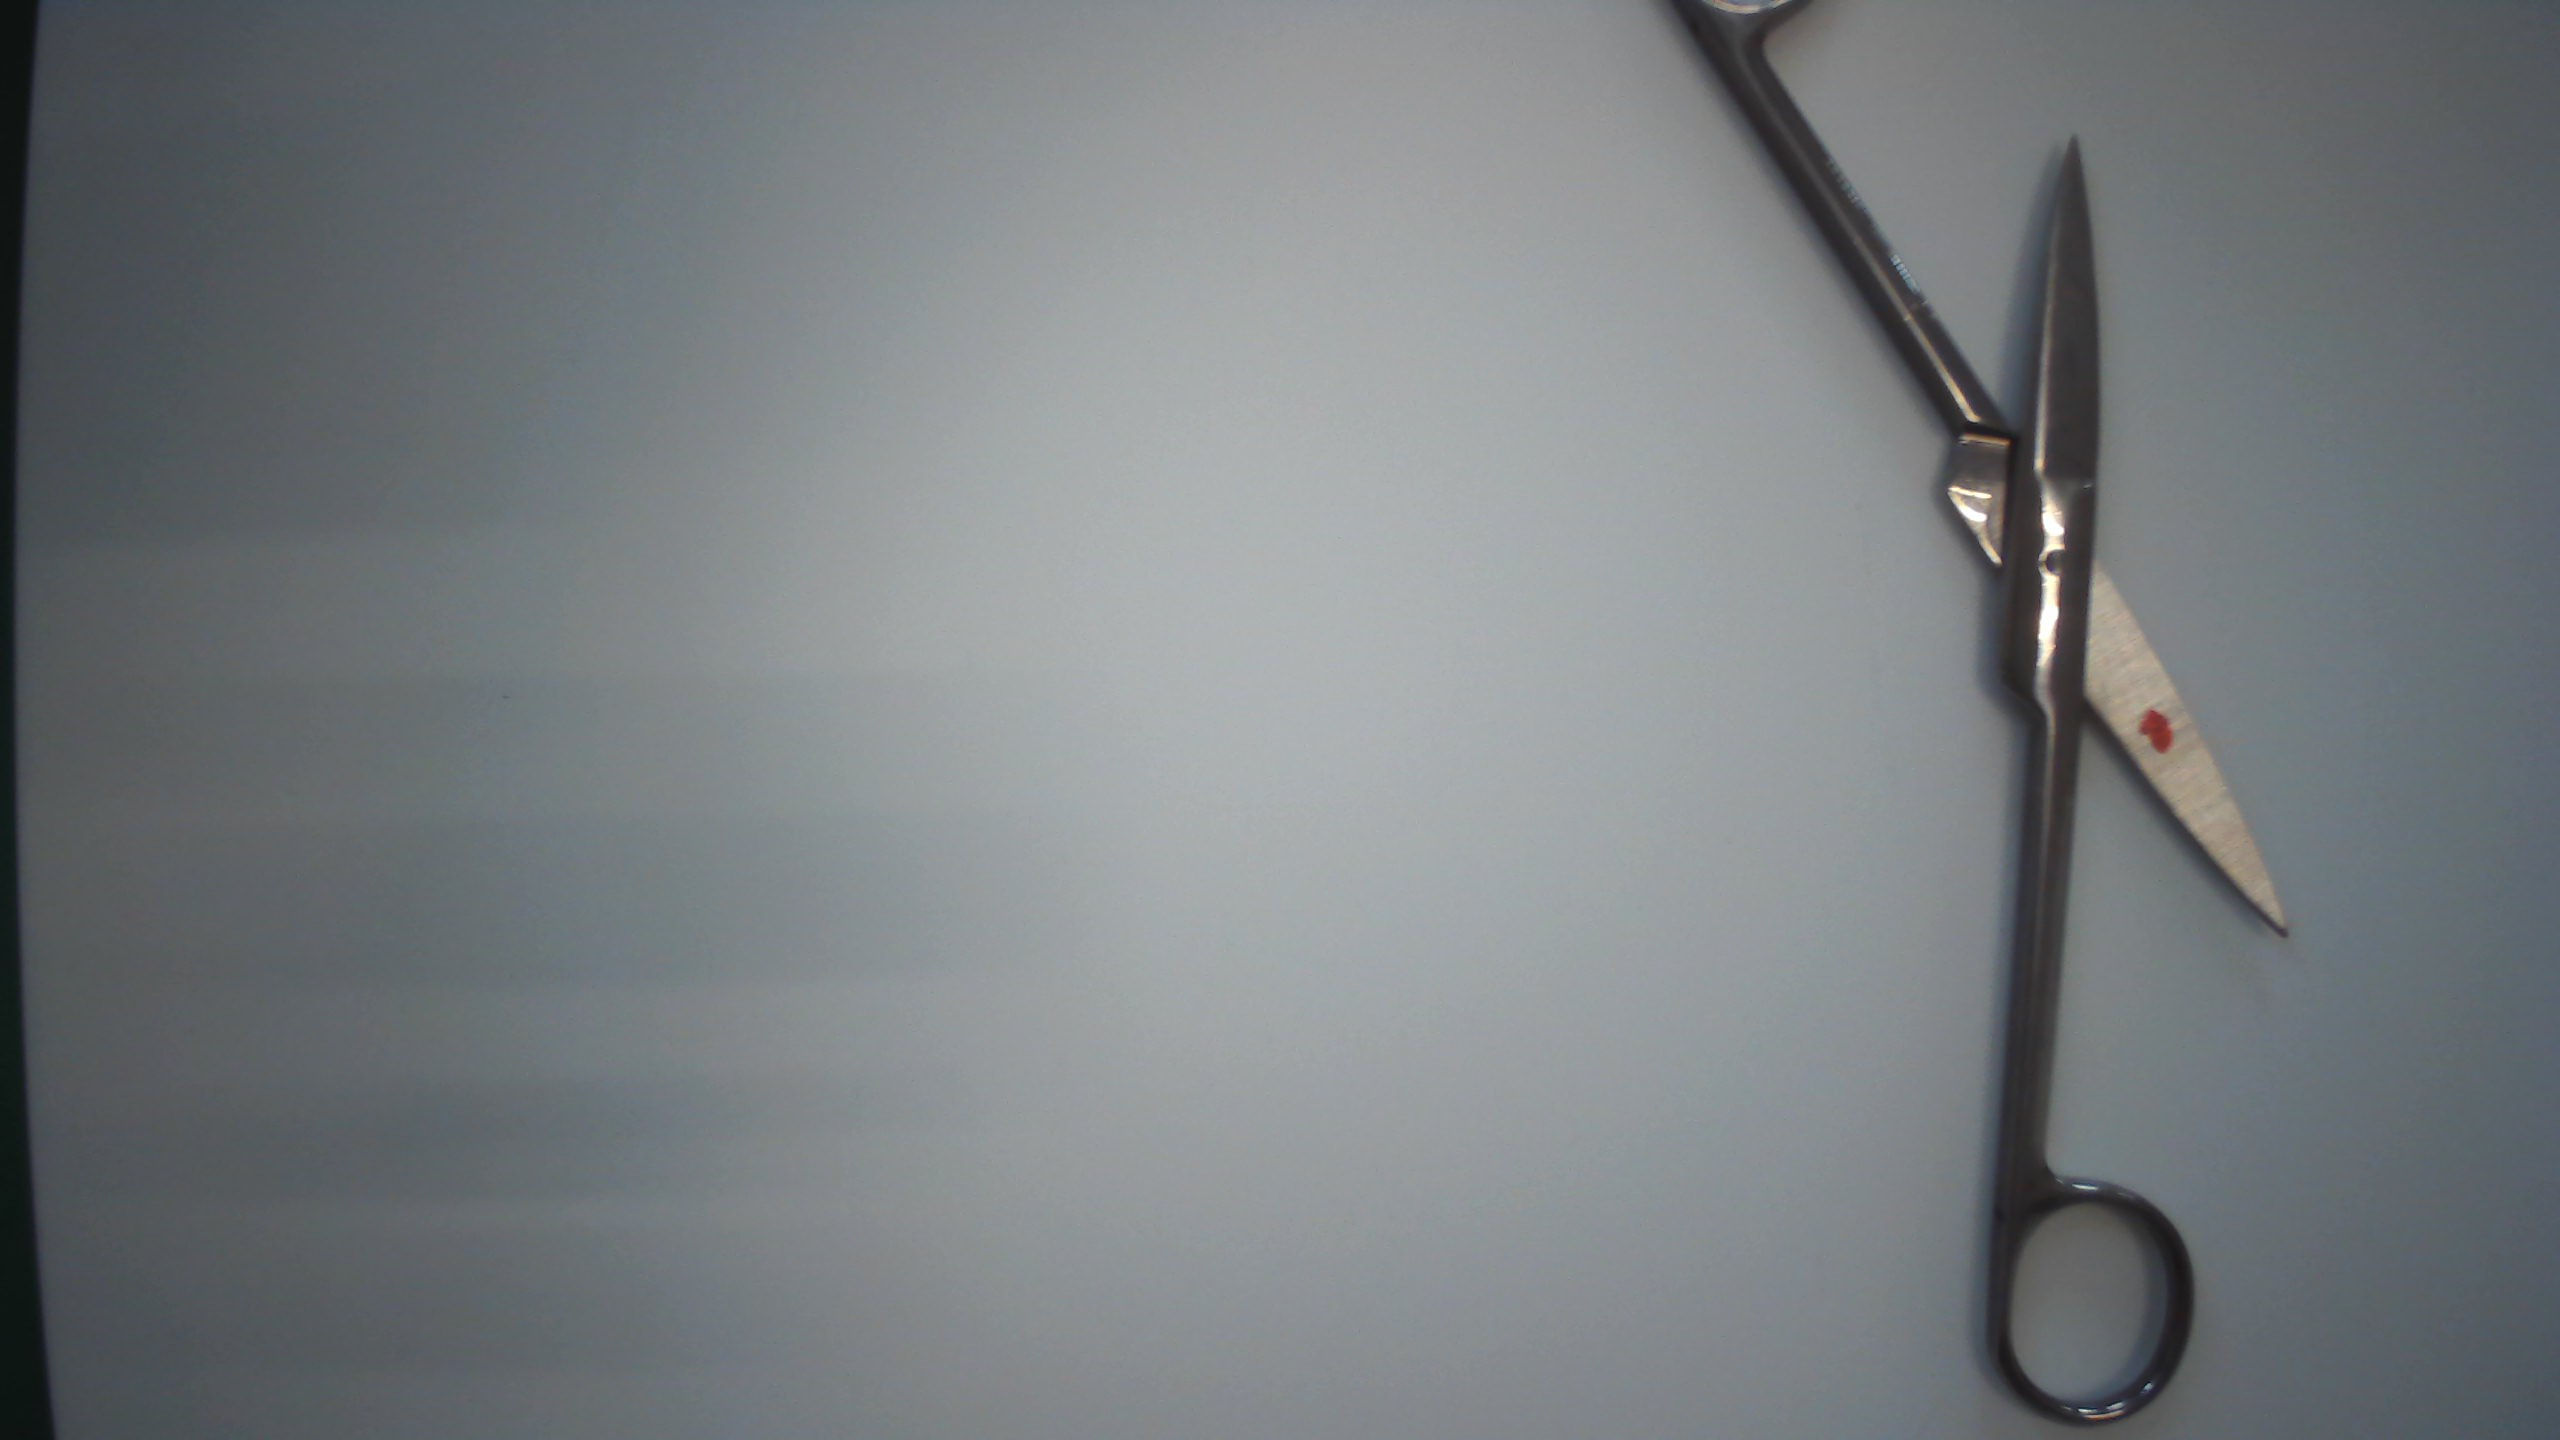Stain: (2126, 710, 2182, 760)
